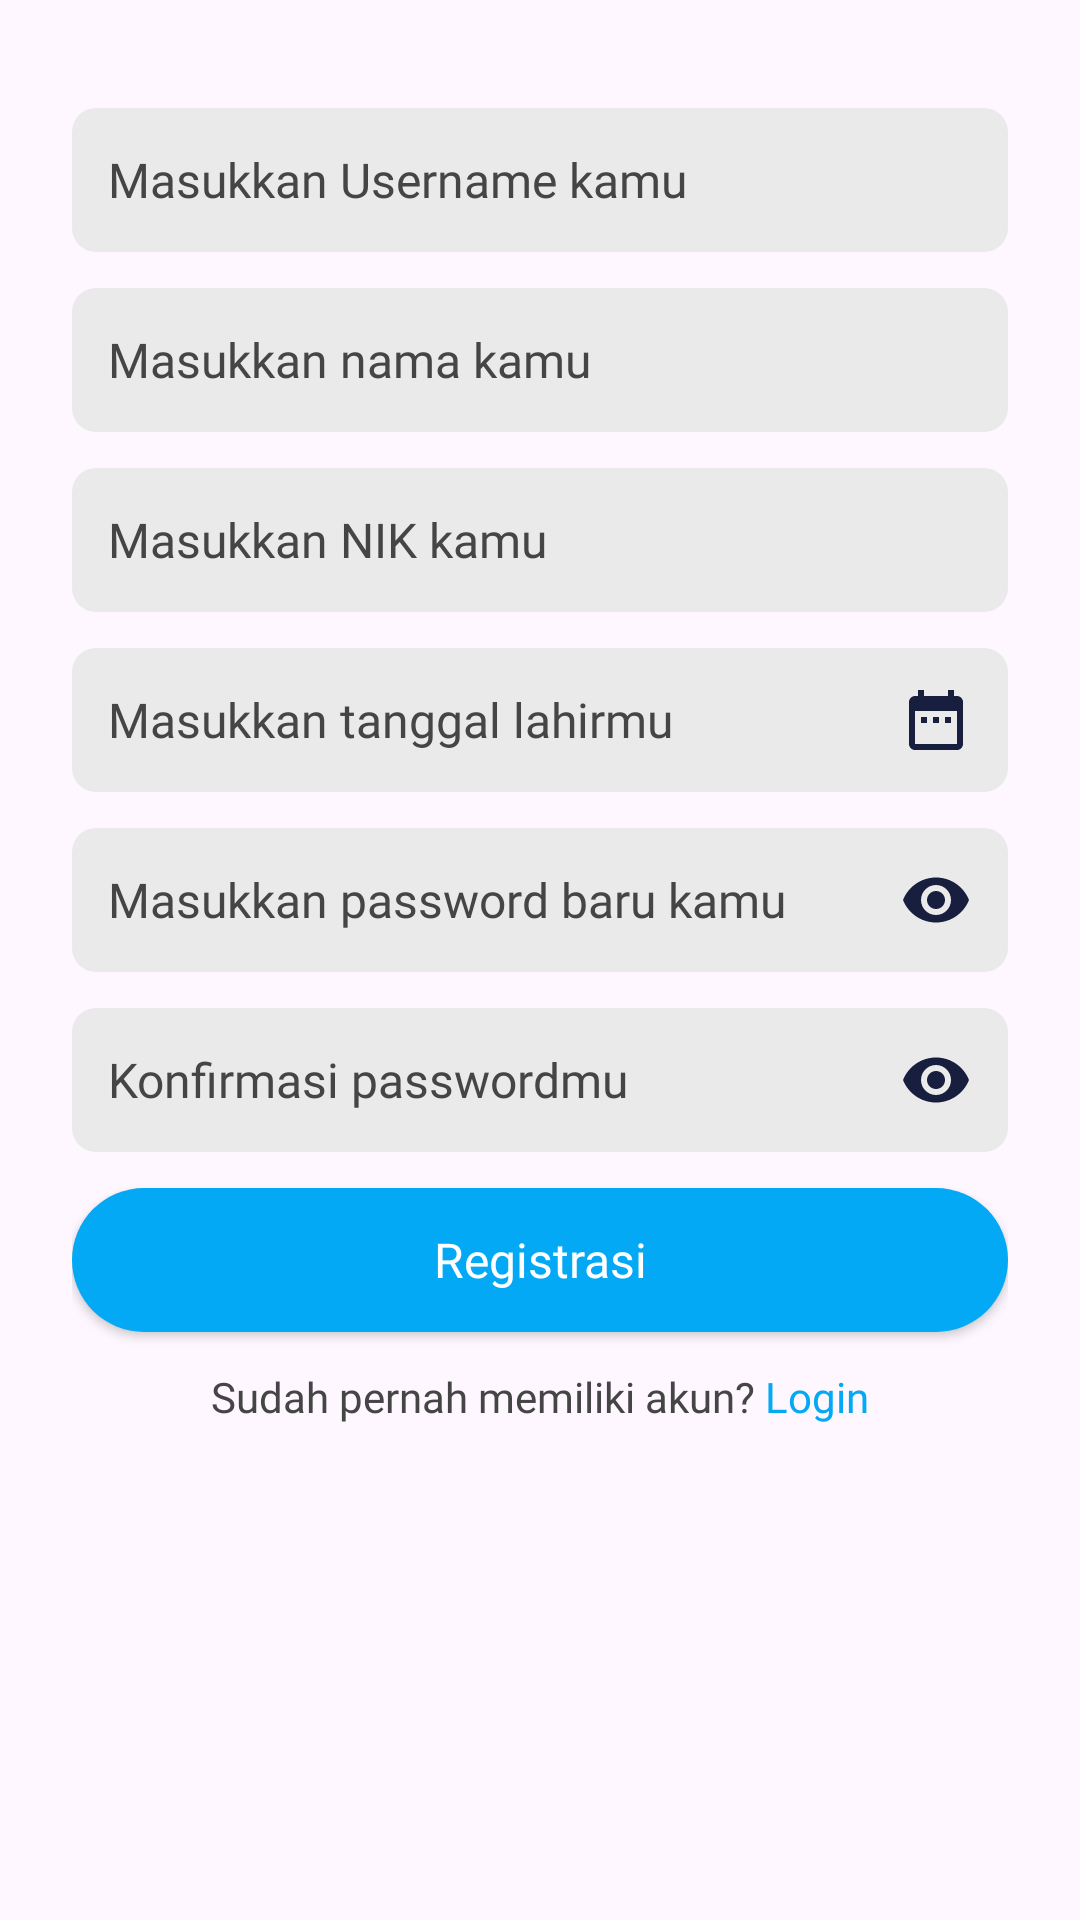

Point at icon controls on the screen. Image size 1080x1920, points as point (x, y).
date range: point (936, 720)
visibility: point (936, 900), point (936, 1080)
